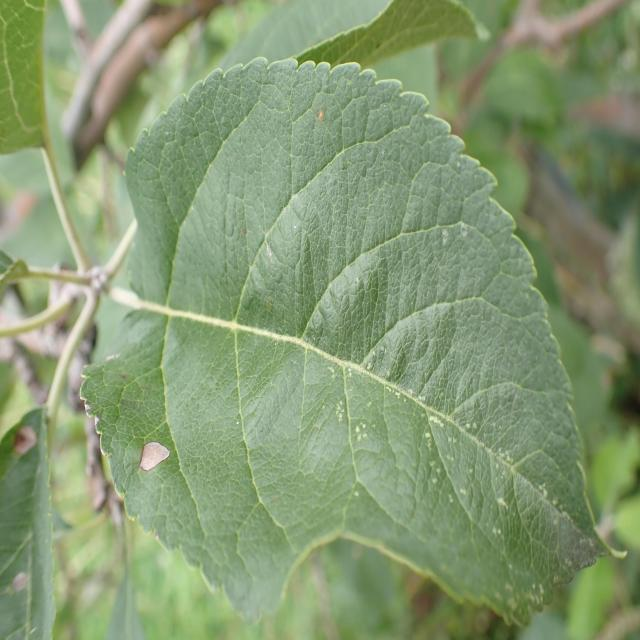Black Rot: (120, 426, 192, 488), (312, 91, 332, 150)
